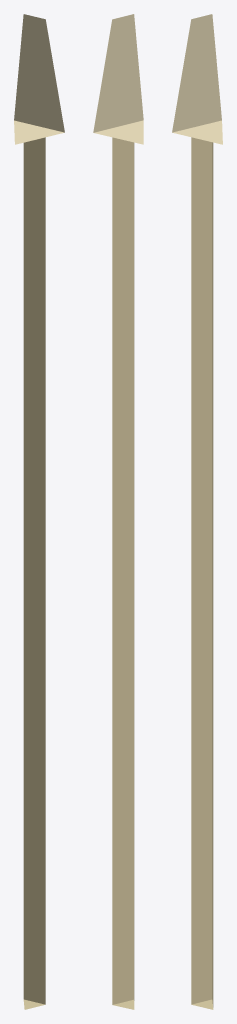
File: field_wheat_stalk_light.glb
3 renders of one model, left to right at view 1: azimuth 90°, elevation 25°; view 2: azimuth 150°, elevation 25°; view 3: azimuth 270°, elevation 25°, orthographic.
Parts seen in each view (by area): view 1: Stalk, Ear; view 2: Stalk, Ear; view 3: Stalk, Ear.
Boxes of the visible parts, x1,y1,x2,y2 form: Stalk: [23, 137, 45, 1009]; Ear: [14, 14, 64, 144]; Stalk: [112, 137, 134, 1009]; Ear: [93, 14, 143, 144]; Stalk: [191, 137, 213, 1009]; Ear: [172, 14, 222, 144].
Size of the model in its own units: 0.06 by 1.13 by 0.053.
